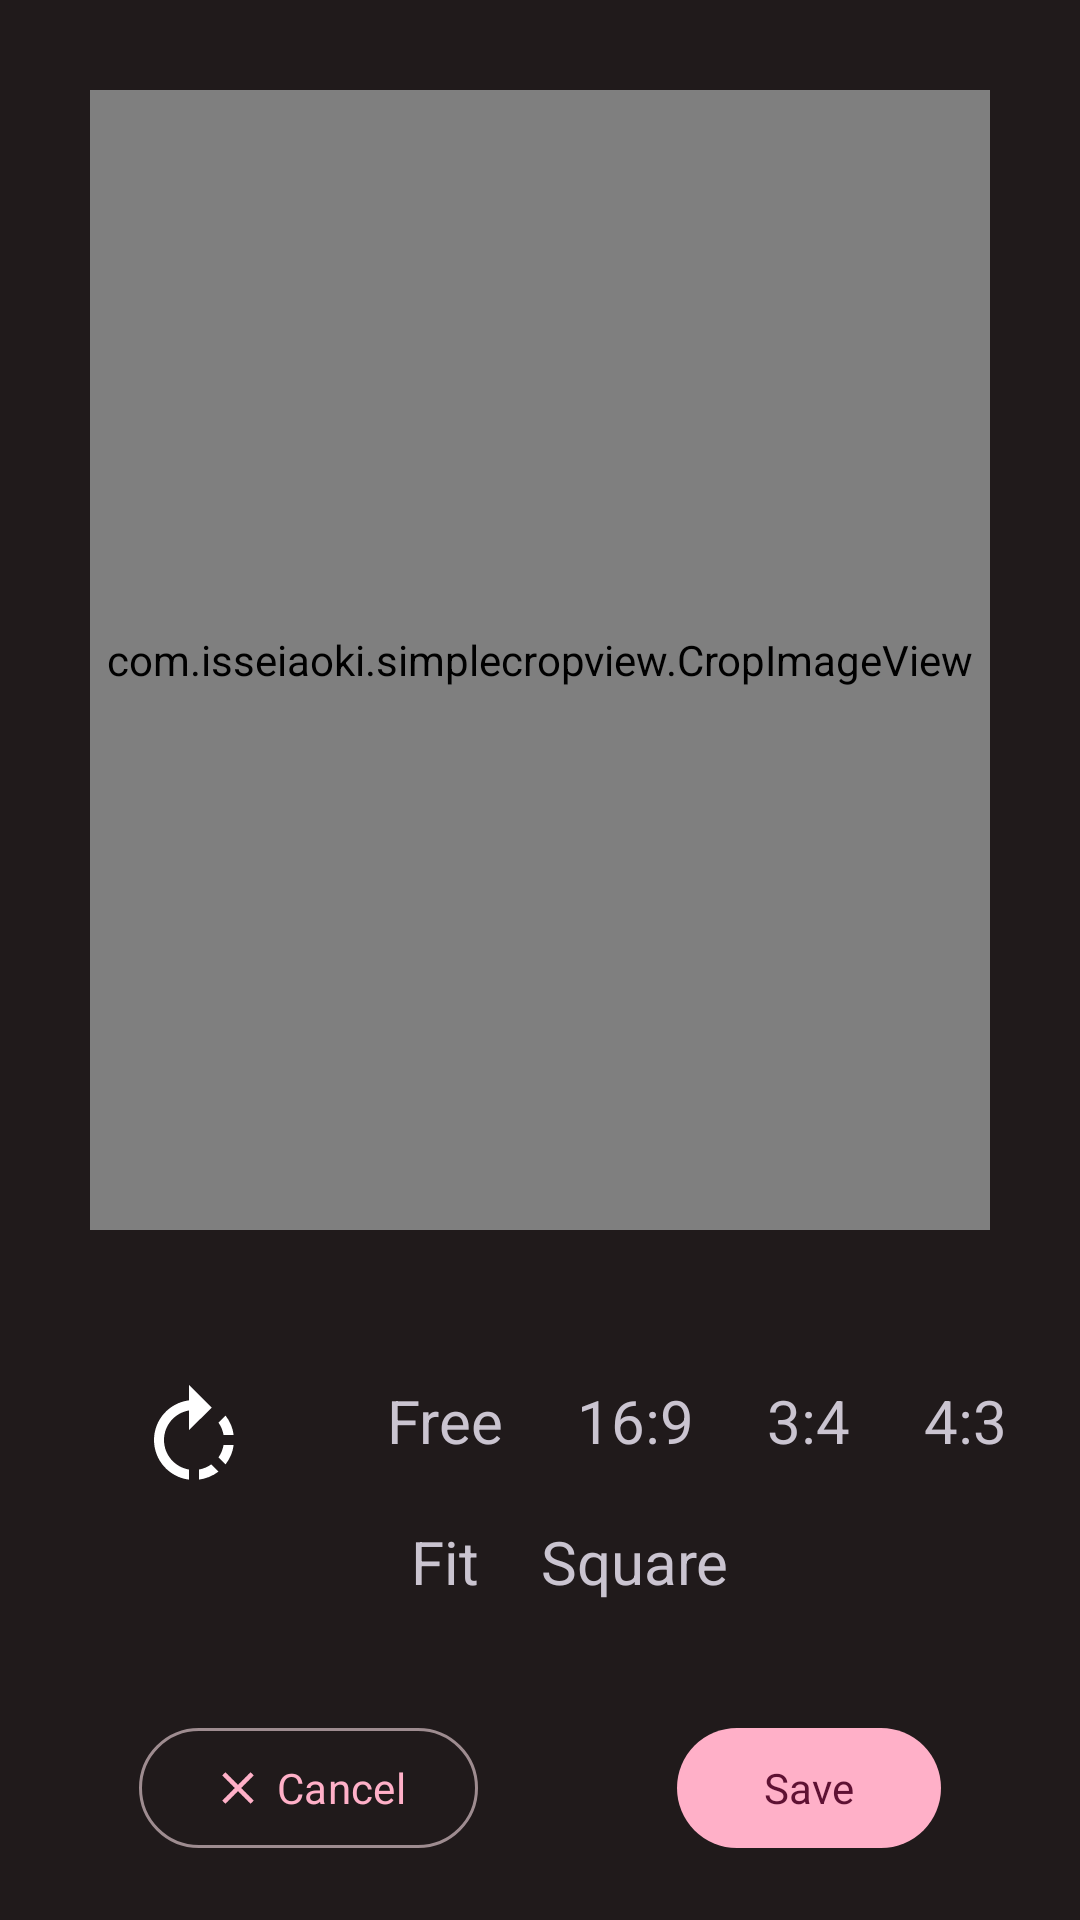

Icon bounding boxes for this 1080*1920 phone screenshot, format (x1, y1, x2, y2):
rotate right: (154, 1385, 234, 1480)
